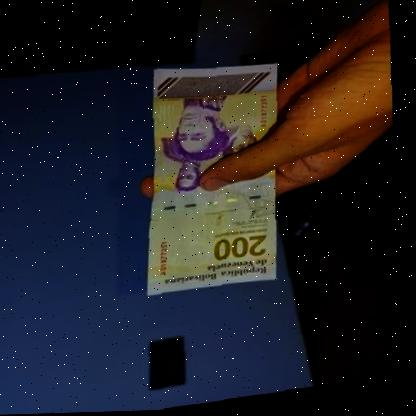two_hundred-front-vef: (128, 52, 303, 298)
